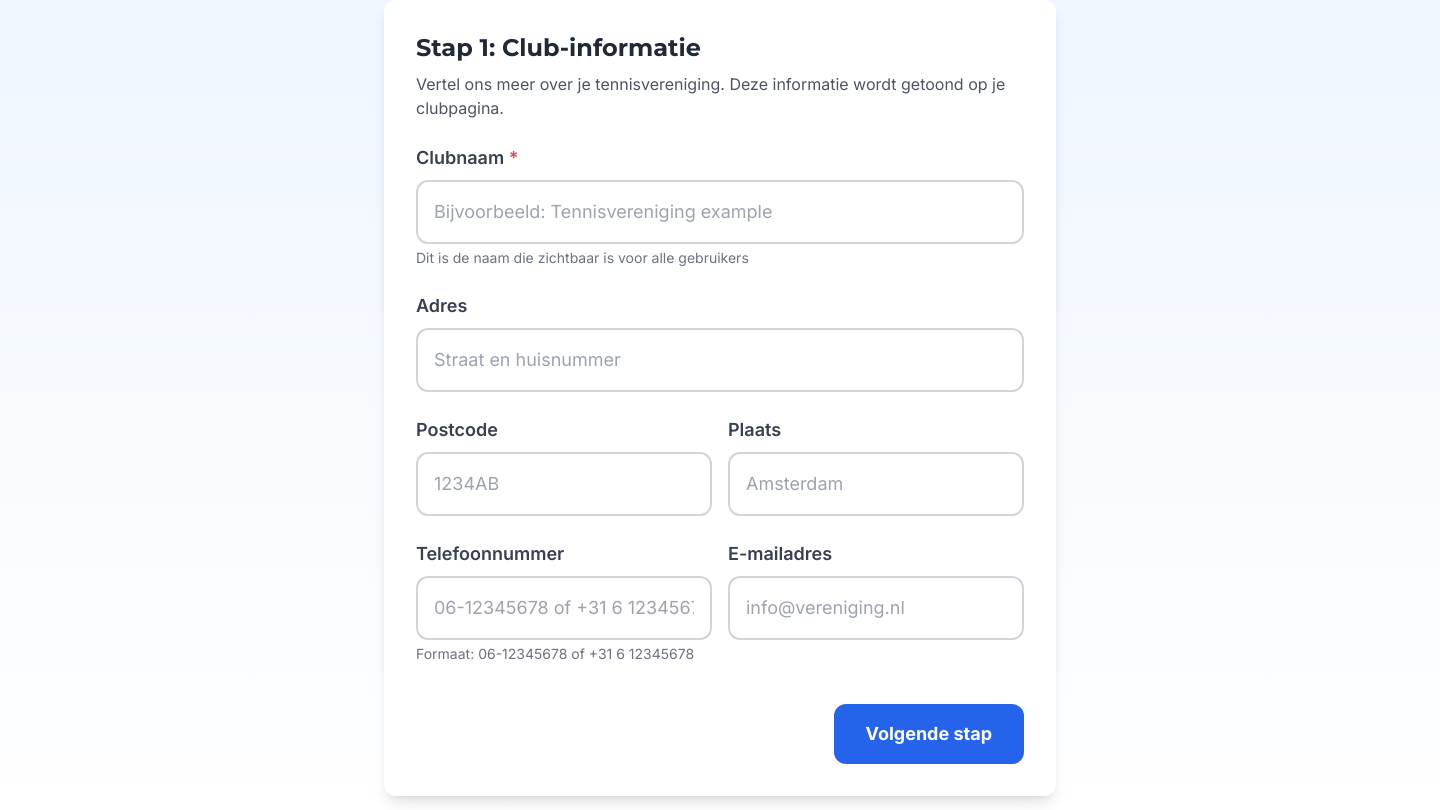
it: ClubStep › Zod validation › should show error for club name shorter than 2 characters
In the field labelled "Clubnaam *": (720, 212) [416,180,1024,244], type "A"
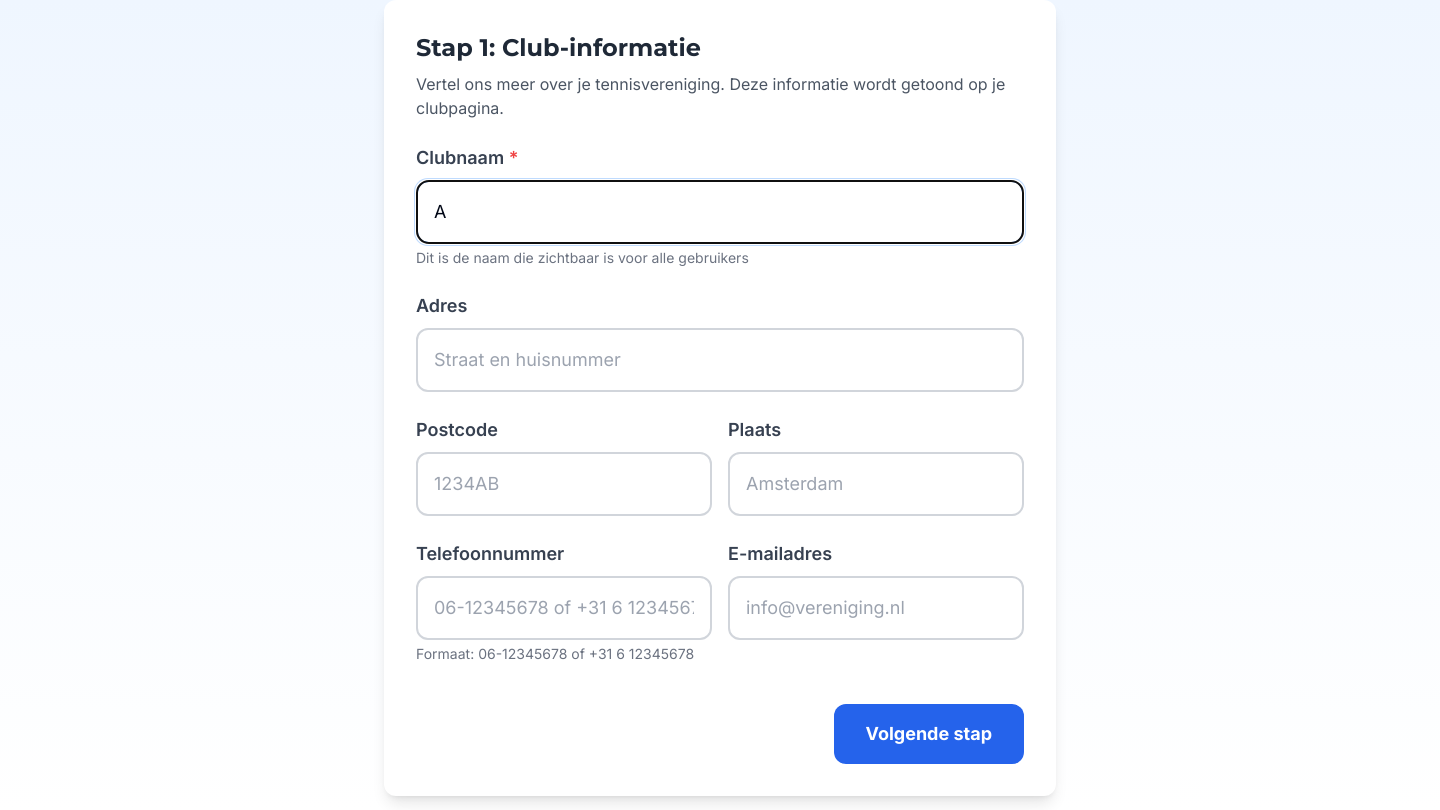
Press Tab
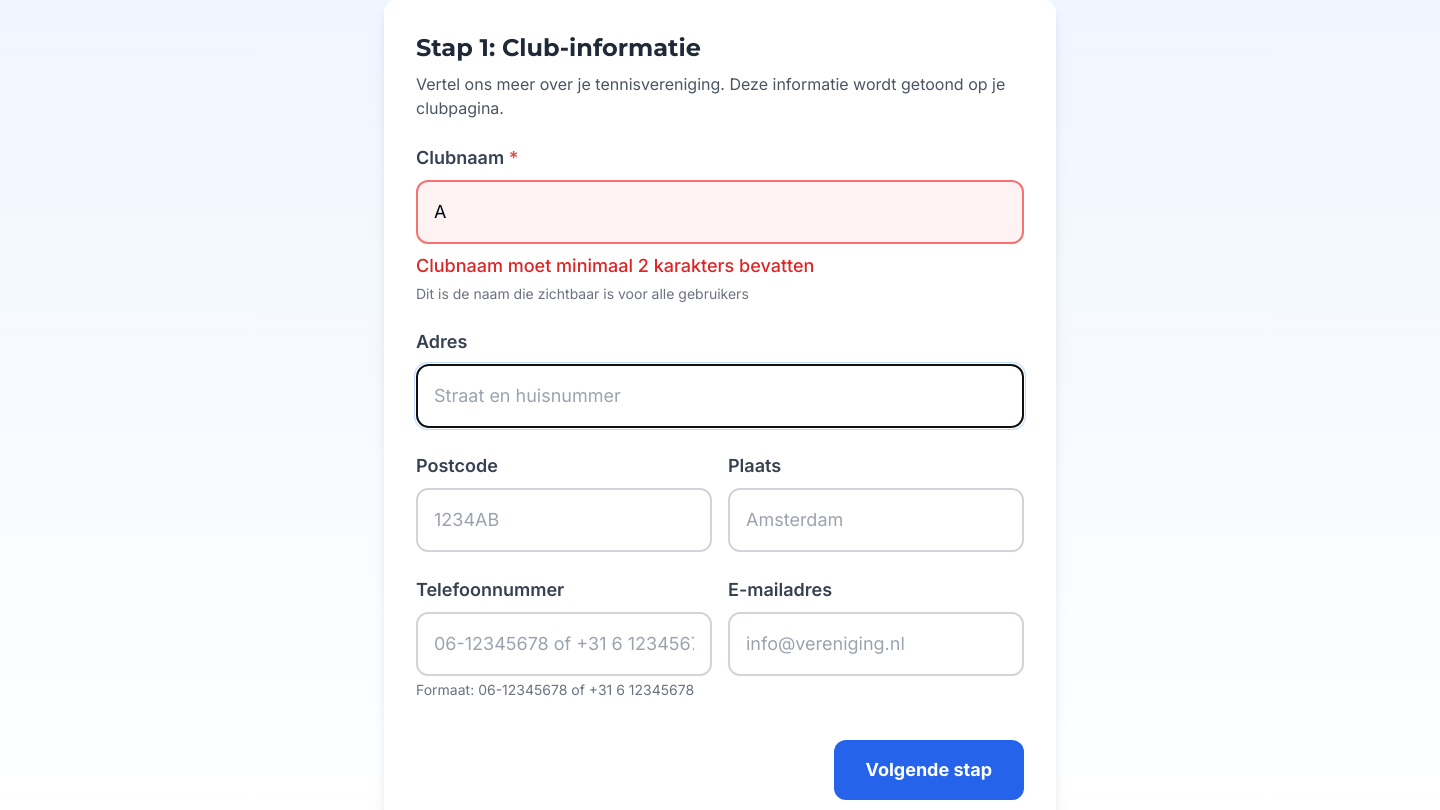
Expected: the text "Clubnaam moet minimaal 2 karakters bevatten" is shown, [416,255,814,276]
